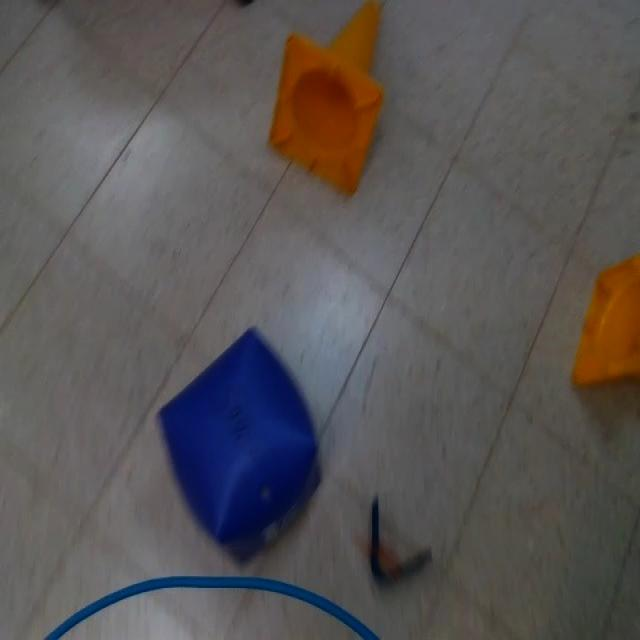cone: (270, 0, 382, 196), (569, 251, 640, 396)
cube: (160, 328, 322, 564)
